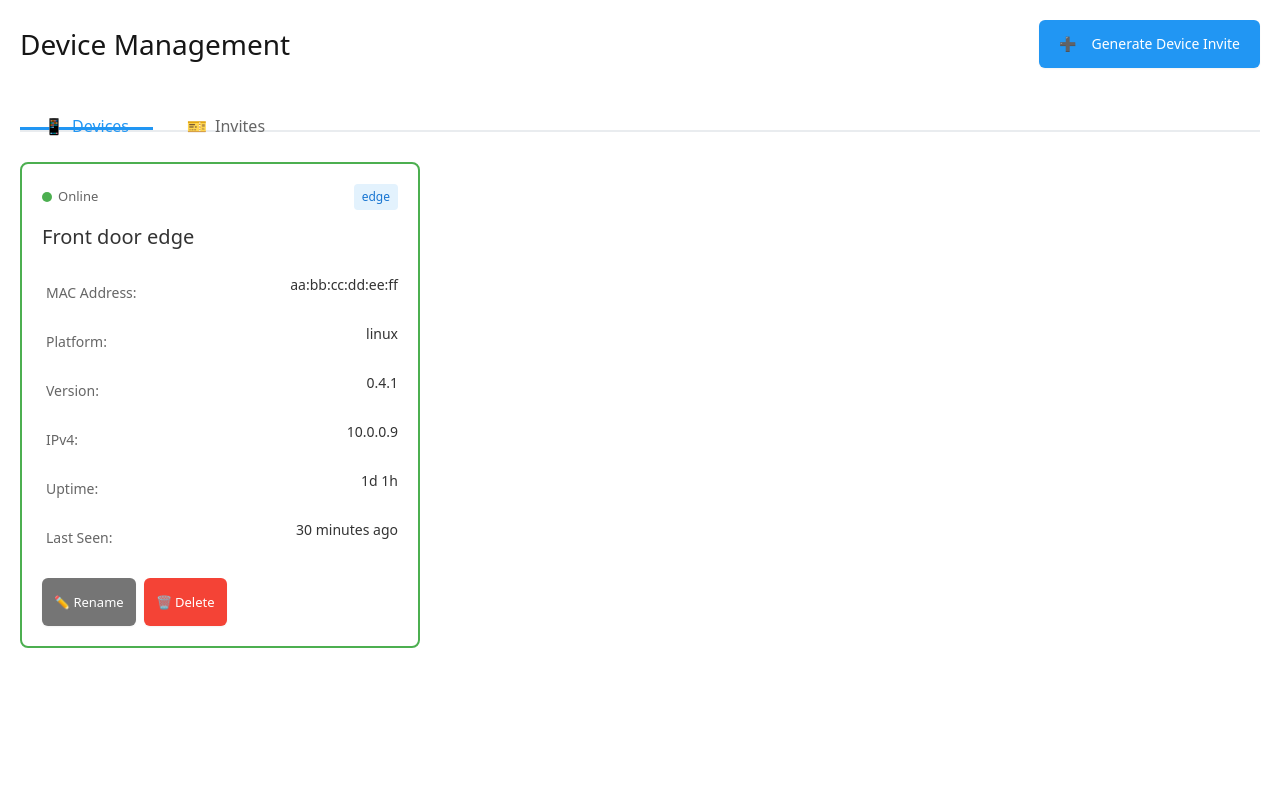
Test: renaming and deleting › opens the rename dialog seeded with the current name
What coordinates should you click on to do the following:
click the button "✏️ Rename"
I would click on:
 (89, 602)
Its box is [42,578,136,626].
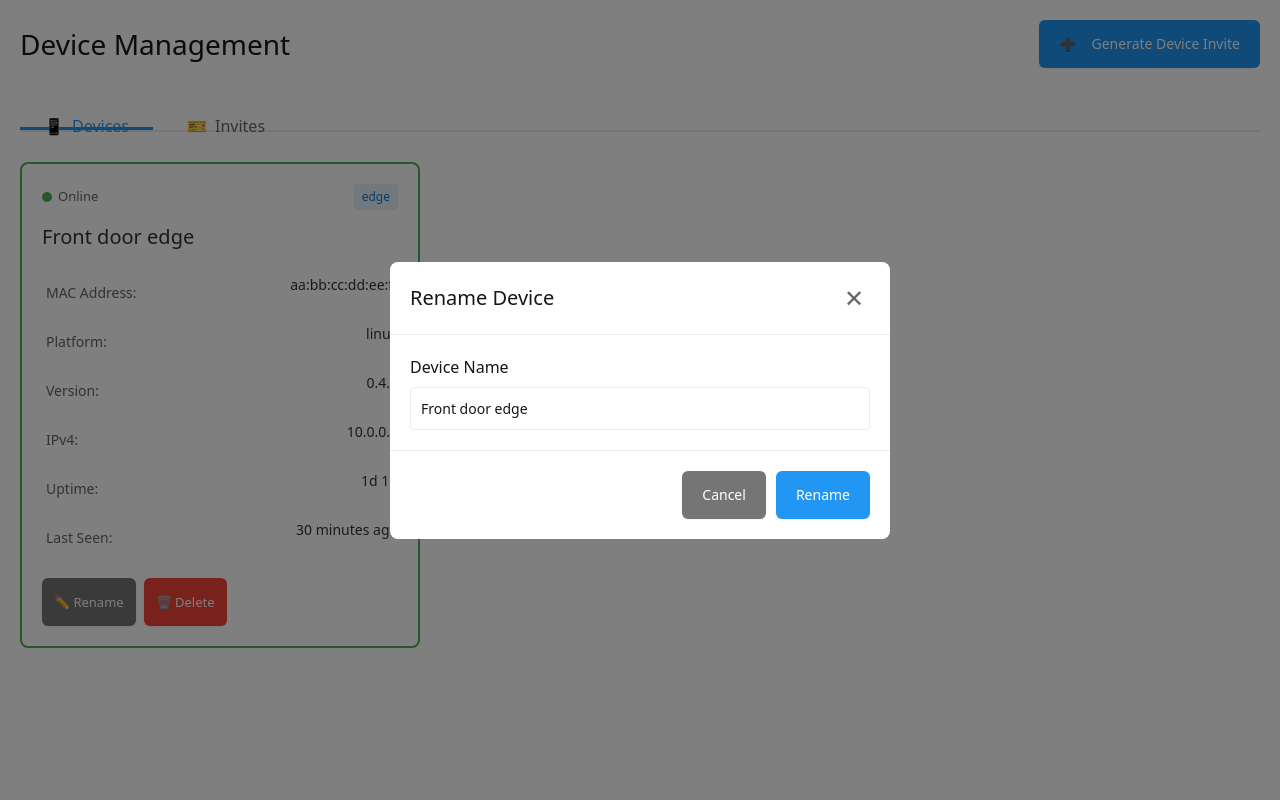
Now the field with class "form-input" holds "Front door edge", box [410,386,870,430]
